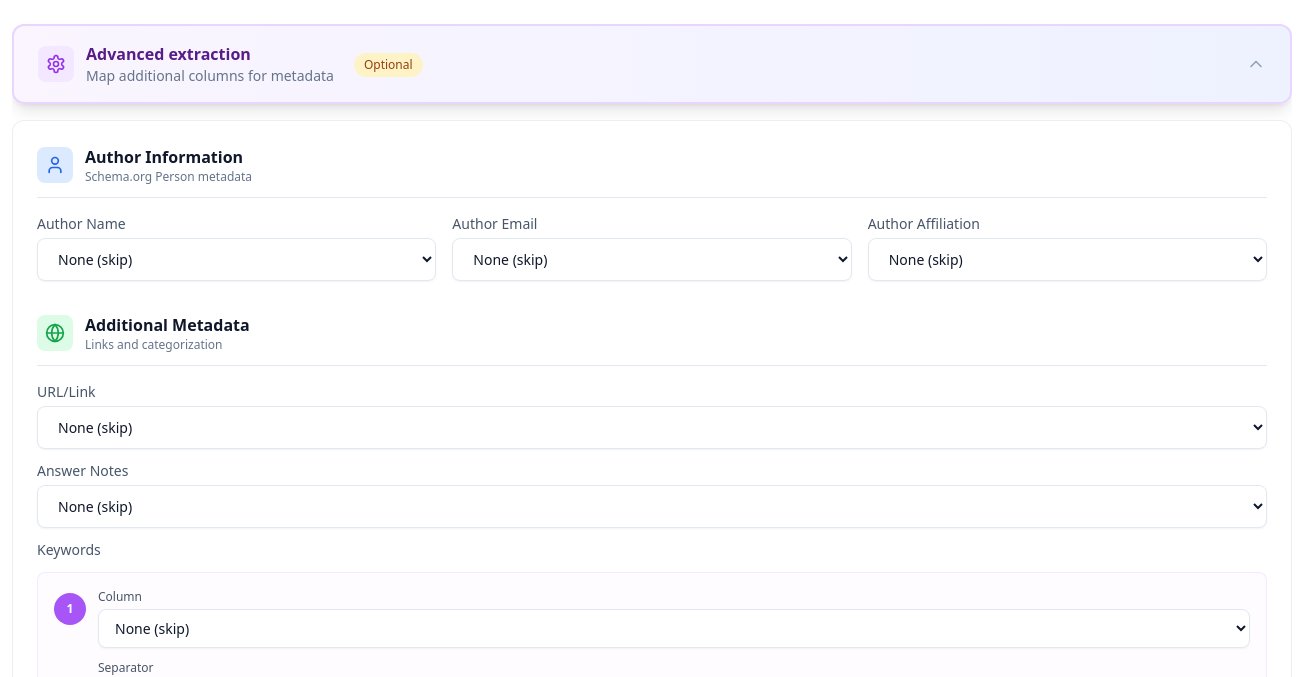
Test case: AdvancedExtractionPanel › filters out empty values from preview
# Select author name column
Select "Author_Name" in the dropdown labelled "Author Name": x=237, y=260 x1=37 y1=238 x2=436 y2=281
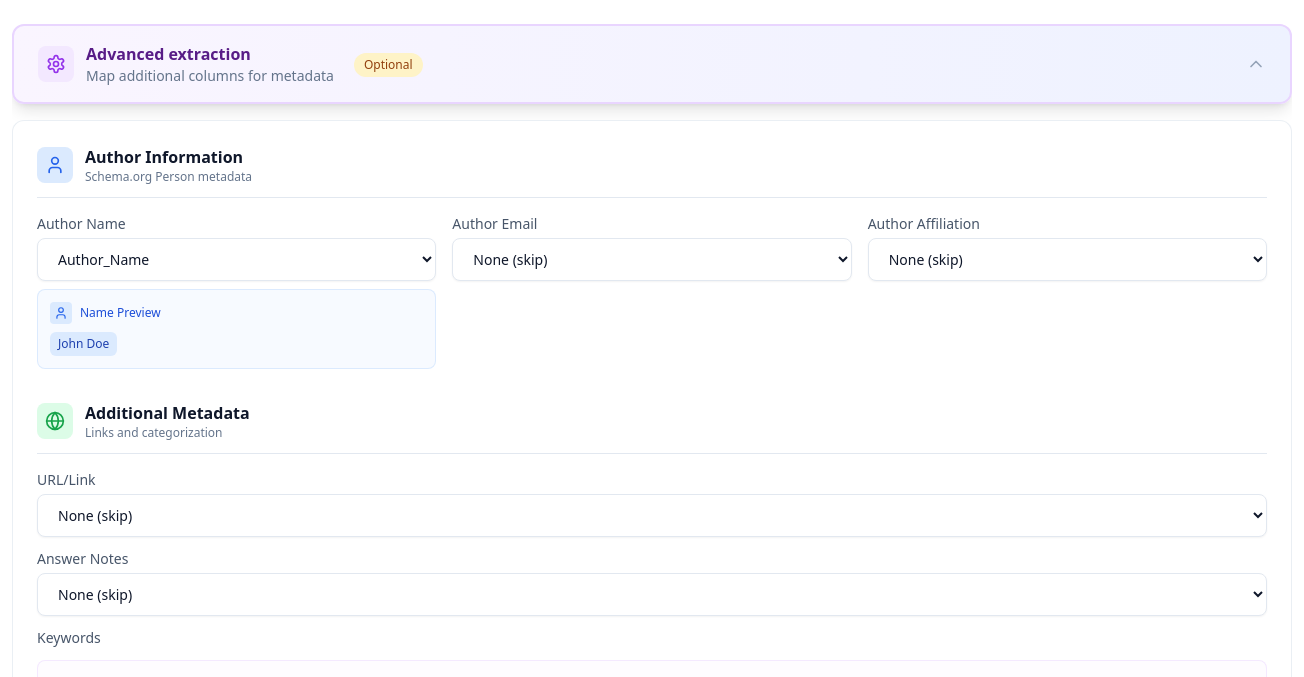
Now the text "John Doe" is shown, box x1=50 y1=332 x2=117 y2=356
